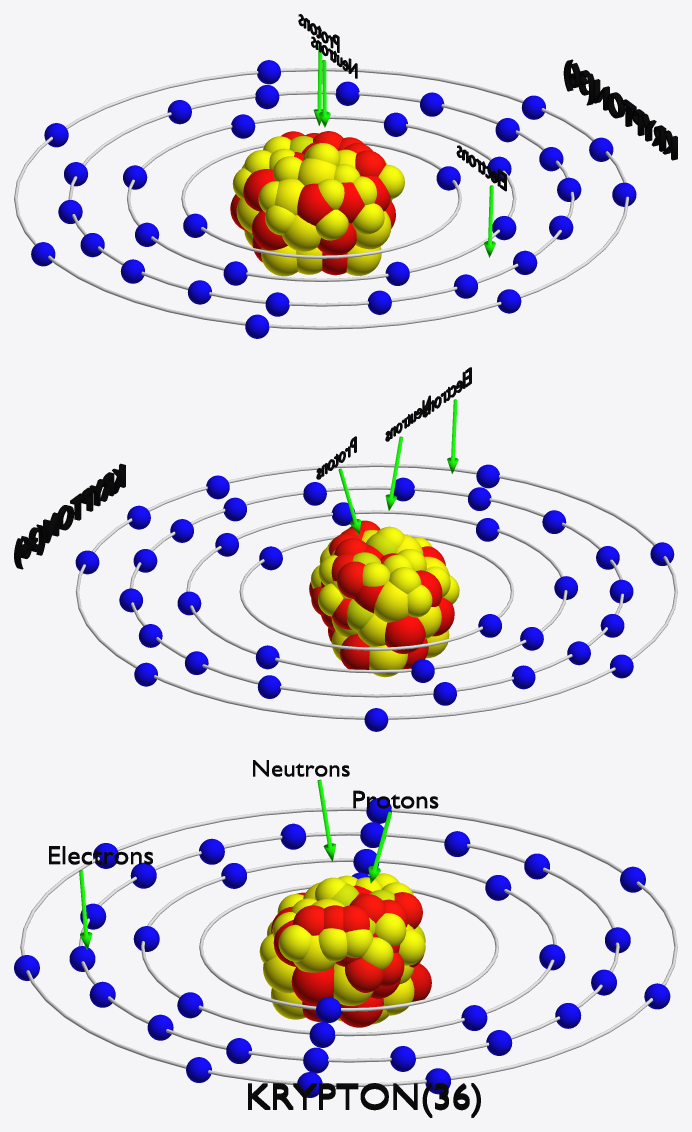
File: Krypton Atomic Model.gltf
The picture shows the model from 3 angles, top to bottom: view 1: azimuth 30°, elevation 25°; view 2: azimuth 150°, elevation 25°; view 3: azimuth 270°, elevation 25°; orthographic projection. The views are drawn at different scales.
Parts seen in each view (by area): view 1: Sphere.038, Torus.003, Torus.002, Torus.001, Text.003, Torus, Sphere.014, Sphere.008, Sphere.006, Sphere.016, Sphere.002, Text (+4 smaller); view 2: Sphere.038, Torus.003, Torus.002, Torus.001, Text.003, Torus, Sphere.018, Sphere.019, Sphere.020, Sphere.013, Sphere.062, Text; view 3: Sphere.038, Torus.003, Torus.002, Torus.001, Text.003, Torus, Sphere.059, Sphere.002, Text, Sphere.000, Sphere.021, Sphere.062 (+23 smaller).
Boxes of the visible parts, x1,y1,x2,y2 form: Sphere.038: (230,136,395,276); Torus.003: (14,68,629,329); Torus.002: (68,90,574,306); Torus.001: (127,115,516,281); Text.003: (563,59,677,160); Torus: (181,141,461,258); Sphere.014: (315,209,348,240); Sphere.008: (352,203,384,234); Sphere.006: (355,150,385,176); Sphere.016: (265,205,295,235); Sphere.002: (378,164,404,199); Text: (456,145,506,191); Sphere.038: (321,530,454,677); Torus.003: (75,463,677,719); Torus.002: (129,486,623,697); Torus.001: (186,510,567,673); Text.003: (14,463,125,569); Torus: (239,534,513,650); Sphere.018: (337,561,364,598); Sphere.019: (407,584,432,617); Sphere.020: (389,567,421,594); Sphere.013: (362,562,390,586); Sphere.062: (318,583,343,616); Text: (422,367,471,417); Sphere.038: (263,882,431,1027); Torus.003: (20,807,677,1086); Torus.002: (78,832,619,1062); Torus.001: (141,858,556,1036); Text.003: (248,1083,480,1117); Torus: (199,884,498,1011); Sphere.059: (345,958,383,992); Sphere.002: (278,924,311,961); Text: (49,846,152,864); Sphere.000: (318,928,347,961); Sphere.021: (375,913,406,946); Sphere.062: (398,929,425,965).
Size of the model in its own units: 7.91 by 3.07 by 7.28.
